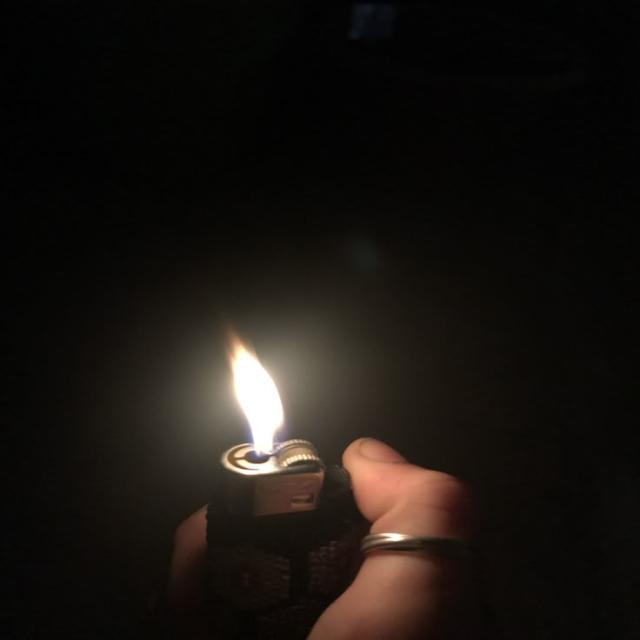fire: (230, 338, 287, 457)
